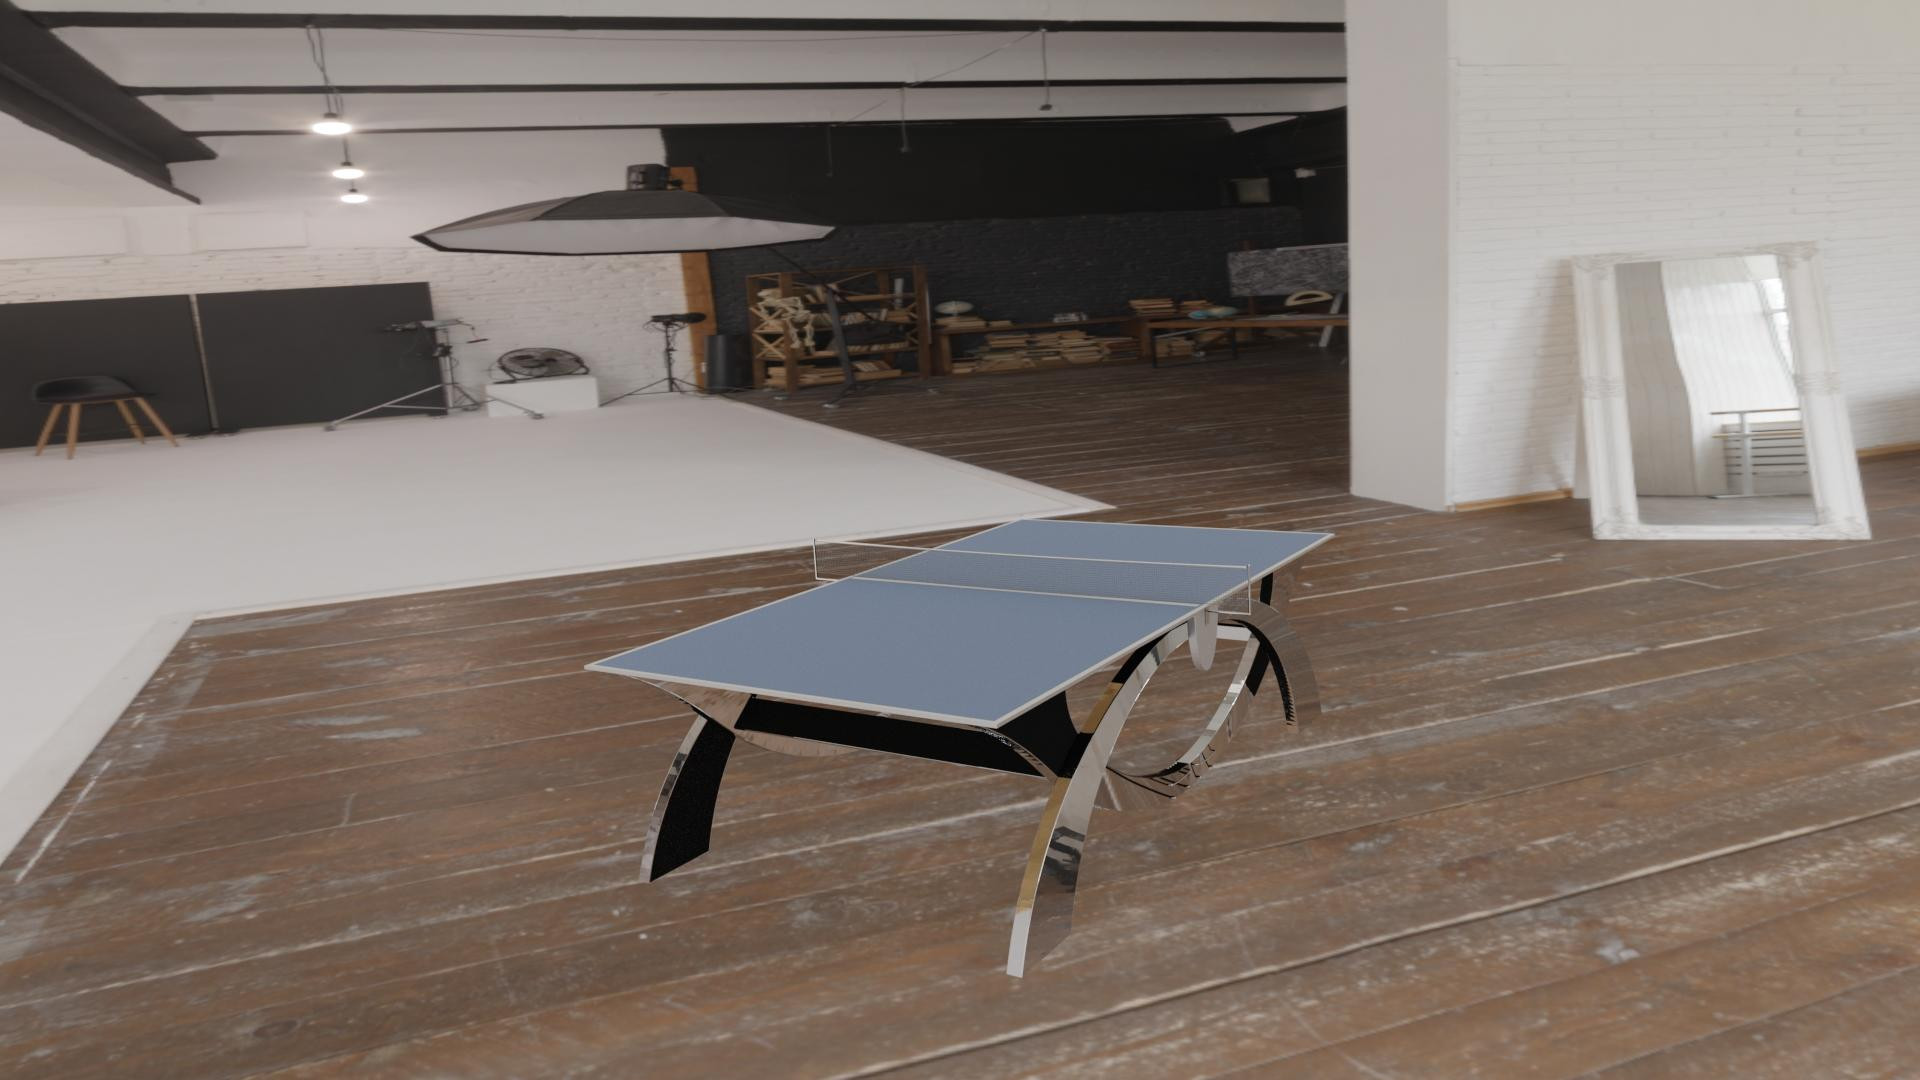table: (593, 520, 1329, 721)
